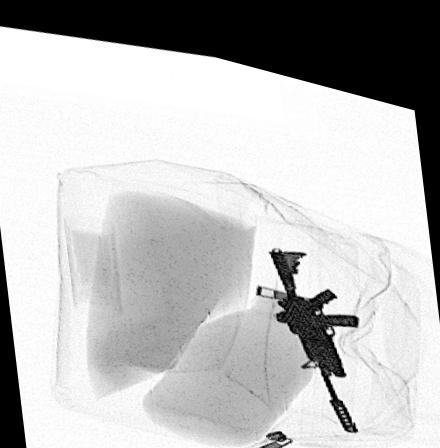Gun: (266, 235, 358, 412)
